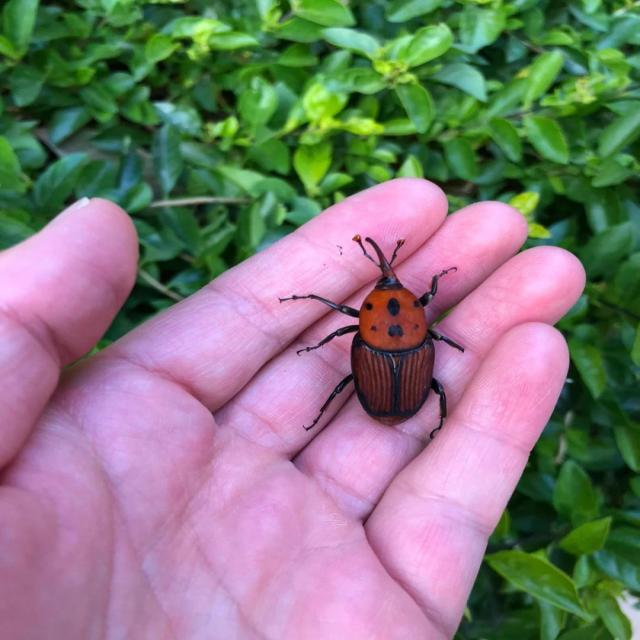Red-palm-weevil: (329, 240, 448, 436)
